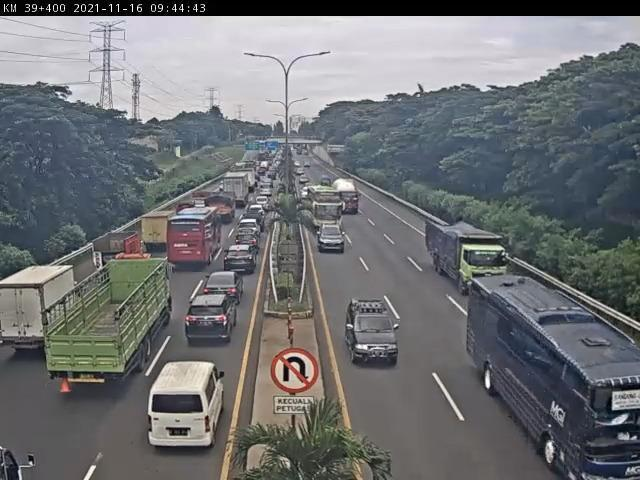bus: (464, 273, 640, 480), (164, 207, 219, 267), (308, 188, 346, 232)
car: (148, 364, 223, 451), (343, 300, 399, 368), (182, 298, 237, 349), (205, 274, 246, 305), (222, 249, 254, 278), (318, 221, 345, 250), (234, 232, 261, 252), (237, 217, 262, 238)
truck: (42, 261, 169, 394), (1, 265, 73, 360), (426, 221, 510, 294), (86, 232, 141, 270), (143, 212, 177, 254), (199, 195, 235, 225)
